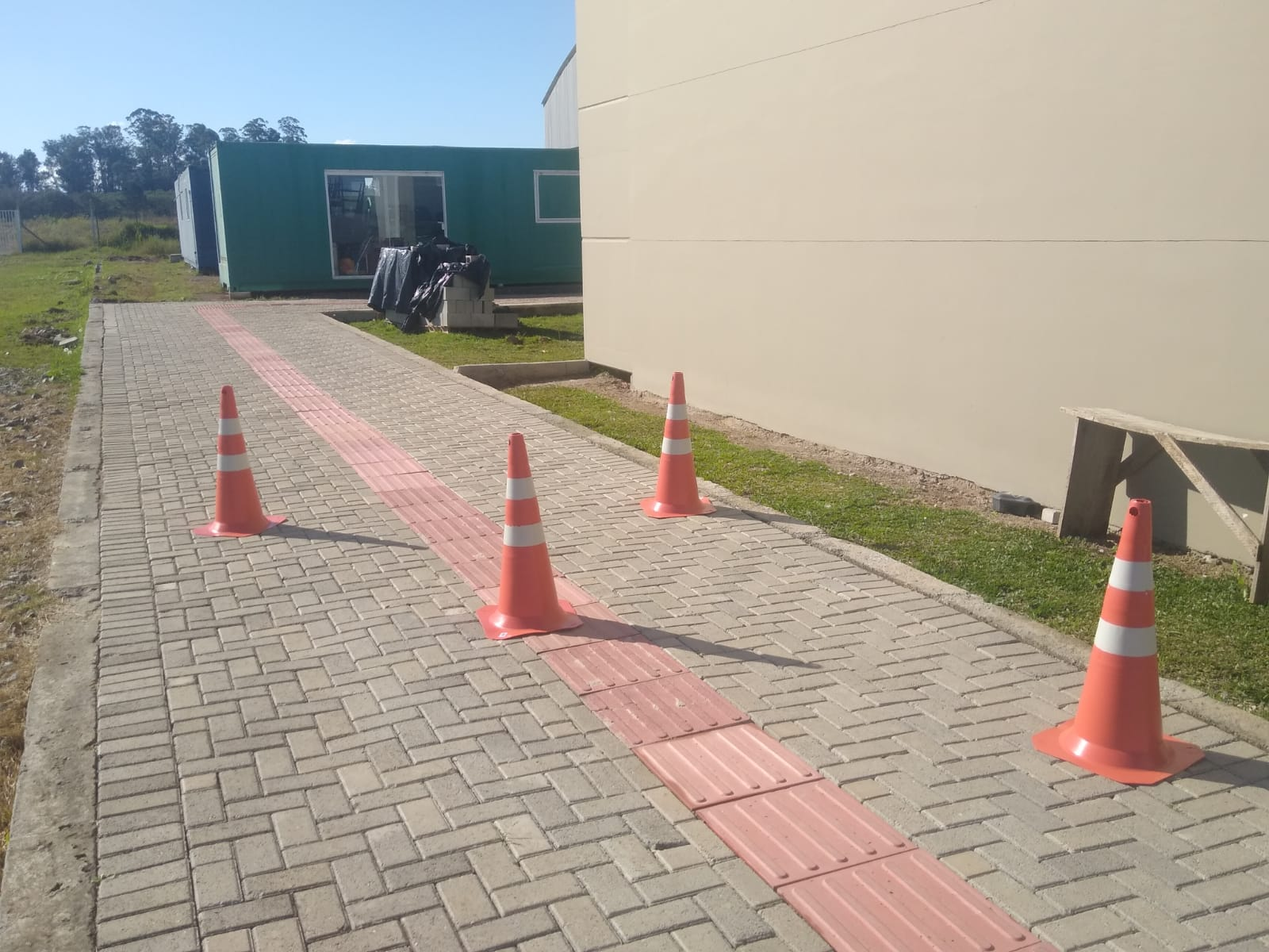traffic_cone: (1030, 496, 1205, 786), (475, 431, 583, 640), (191, 384, 287, 538), (639, 371, 717, 519)
